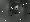person: (13, 4, 19, 15), (20, 4, 24, 15)
